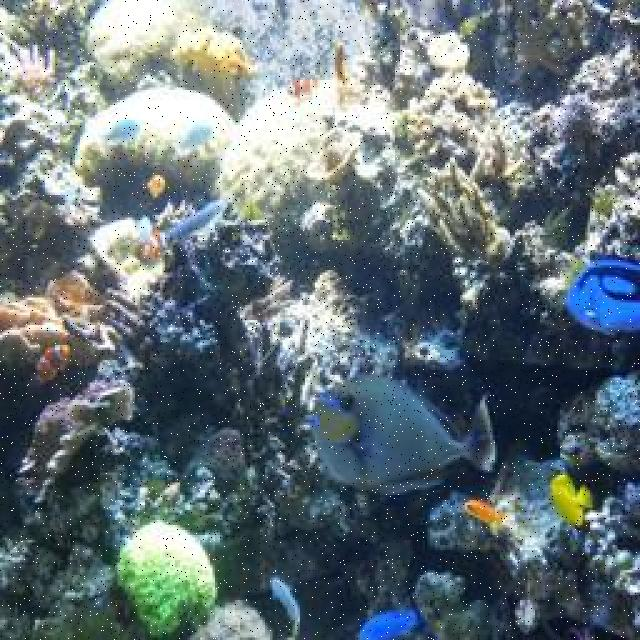fish: (312, 377, 496, 495), (566, 253, 638, 333), (550, 475, 595, 530), (267, 576, 302, 638), (360, 609, 422, 638), (33, 342, 71, 385), (465, 498, 505, 524), (286, 75, 320, 100)
reefs: (74, 0, 355, 255), (117, 520, 220, 638)
